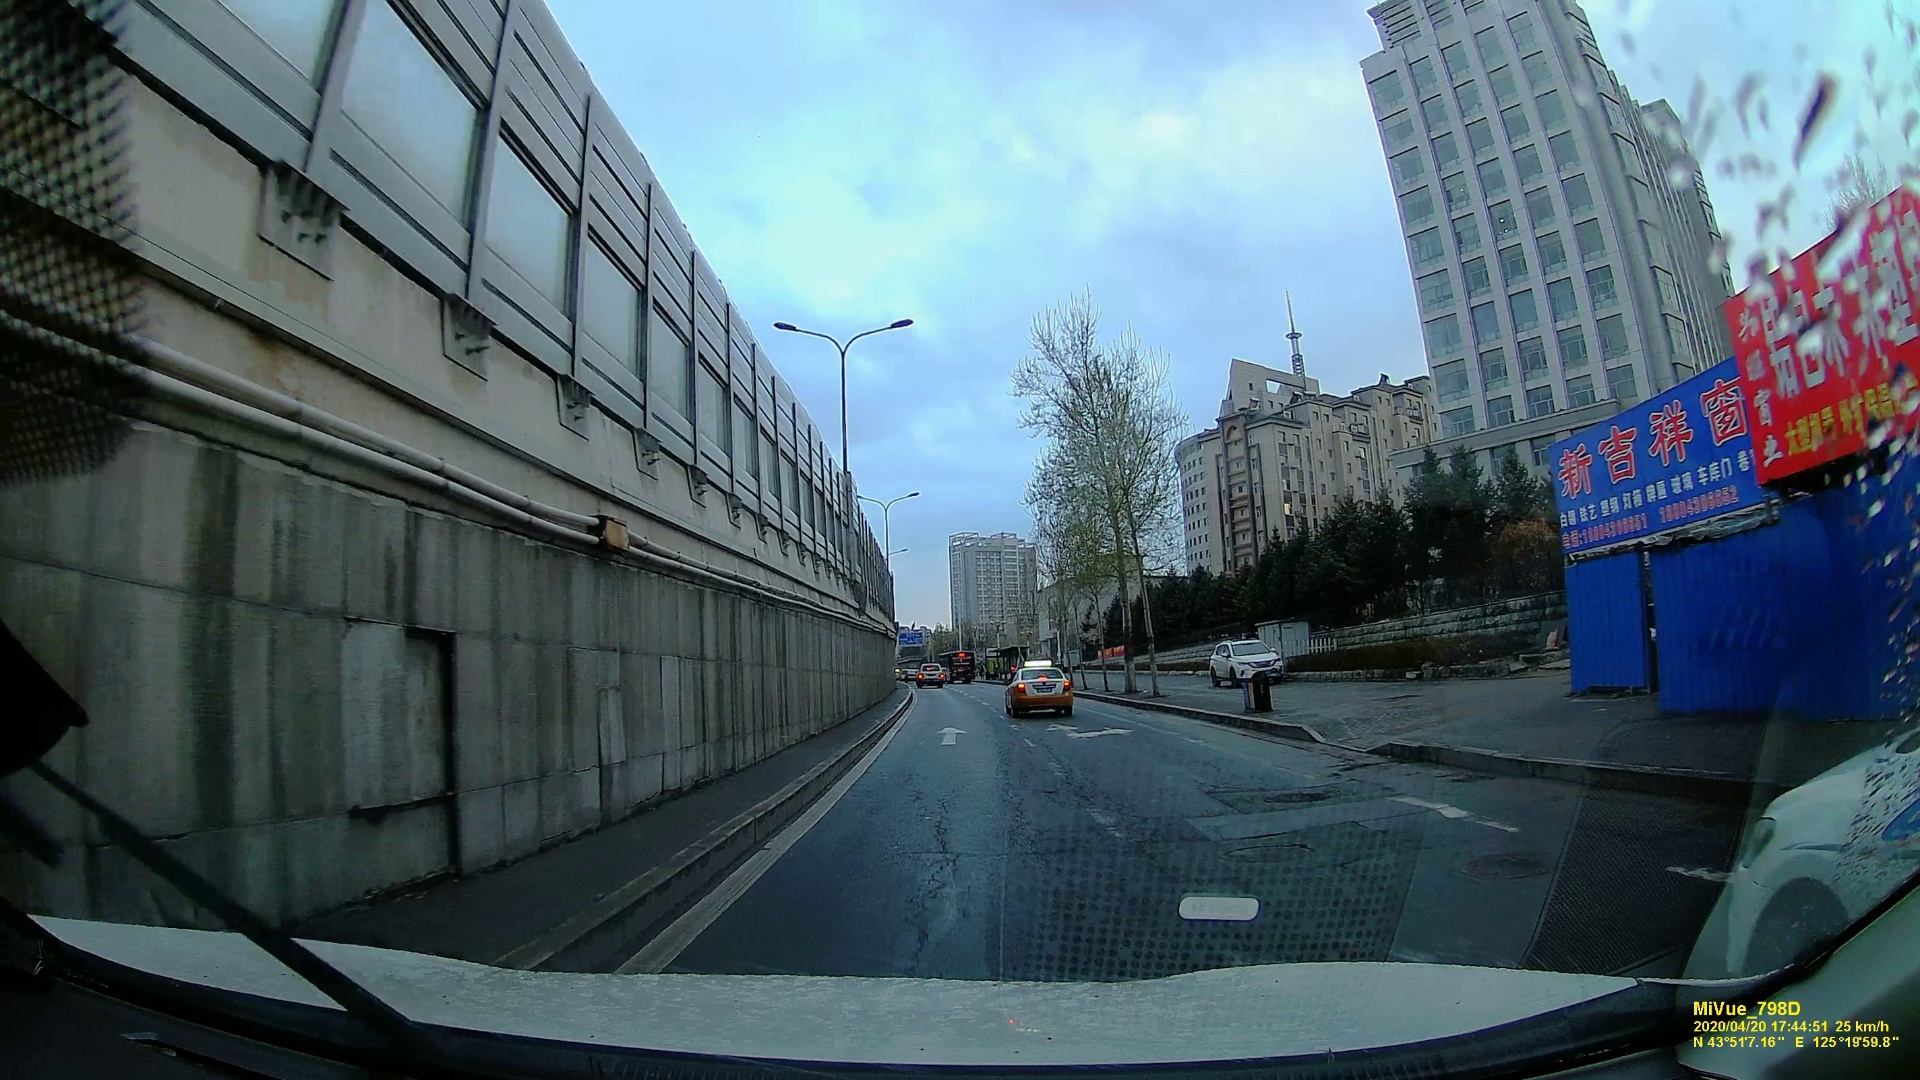bus: (942, 651, 977, 683)
traffic_sign: (898, 629, 926, 647)
vehicle: (1692, 731, 1920, 975), (1207, 637, 1287, 688), (1004, 666, 1073, 719), (916, 663, 945, 687)
